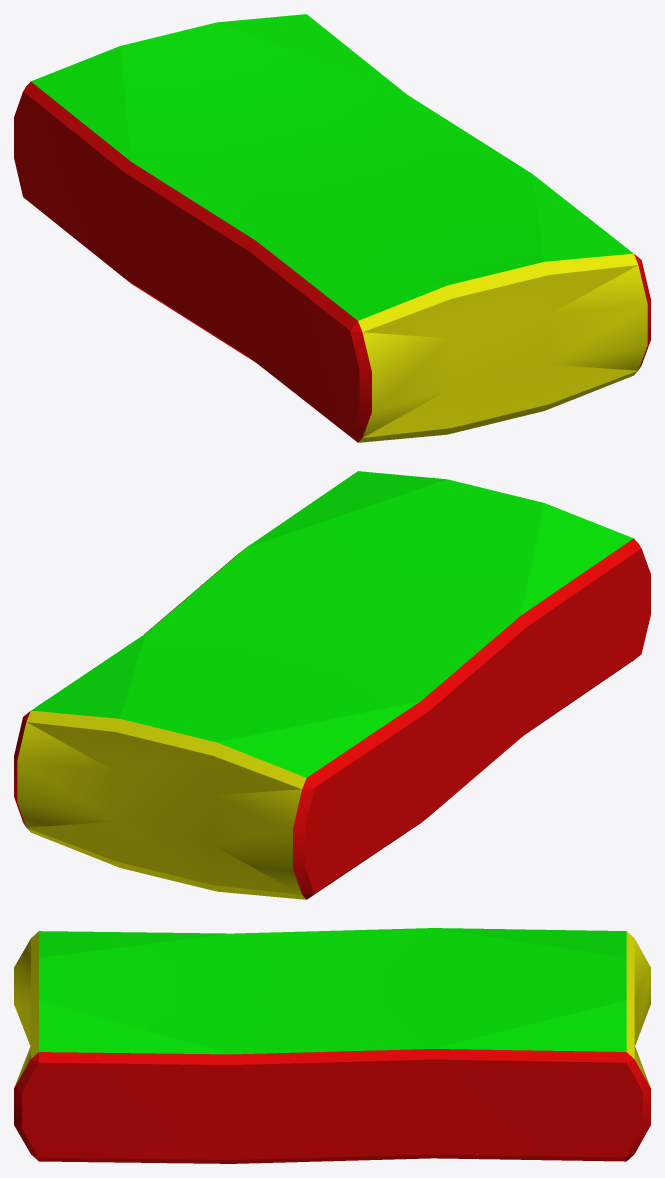
Rendered from M_Bandage.fbx.
The picture shows the model from 3 angles, top to bottom: view 1: azimuth 30°, elevation 25°; view 2: azimuth 150°, elevation 25°; view 3: azimuth 270°, elevation 25°; orthographic projection. The views are drawn at different scales.
Visible parts, largest first — view 1: polySurface4; view 2: polySurface4; view 3: polySurface4.
Boxes of the visible parts, x1=… form: polySurface4: x1=14, y1=14, x2=650, y2=442; polySurface4: x1=14, y1=471, x2=650, y2=899; polySurface4: x1=14, y1=928, x2=650, y2=1163.
Size of the model in its own units: 5.22 by 2.45 by 10.54.
